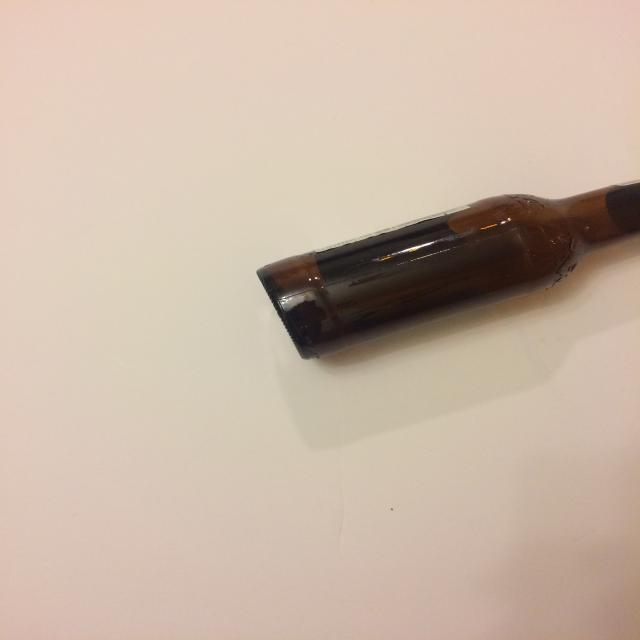glass: (255, 182, 640, 360)
